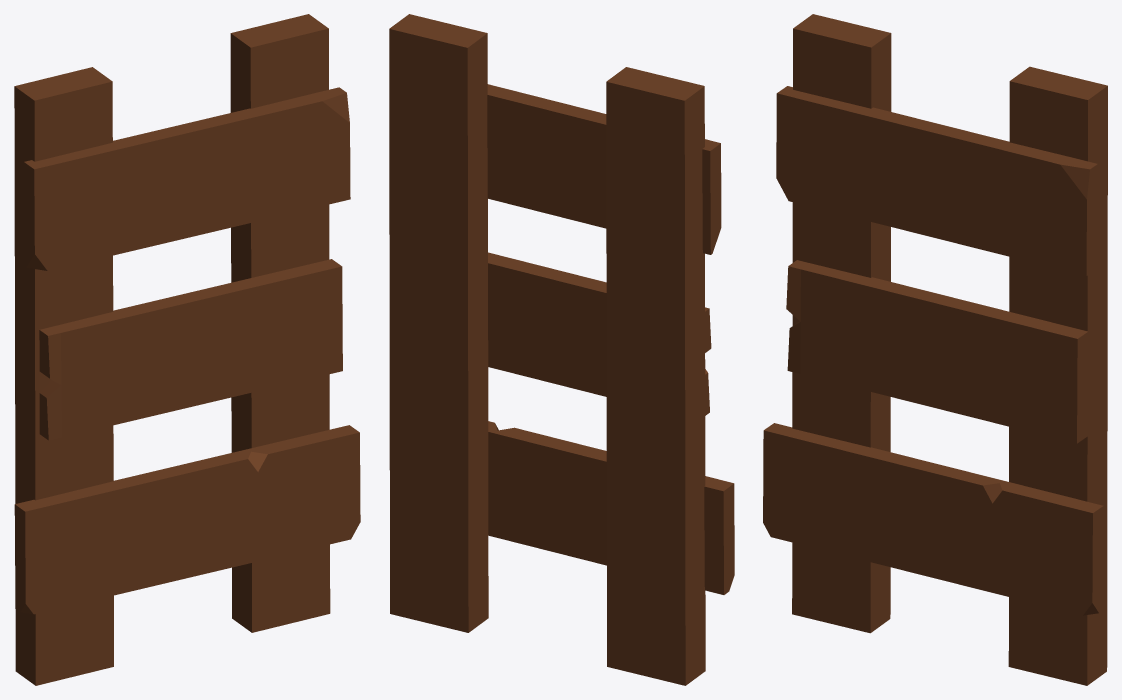
The model's file is Stairs_1.fbx.
3 renders of one model, left to right at view 1: azimuth 30°, elevation 25°; view 2: azimuth 150°, elevation 25°; view 3: azimuth 330°, elevation 25°, orthographic.
Visible parts, largest first — view 1: Stairs_1; view 2: Stairs_1; view 3: Stairs_1.
Part boxes in pixels (x1,y1,x2,y2): Stairs_1: [14, 14, 360, 685]; Stairs_1: [389, 14, 734, 685]; Stairs_1: [763, 14, 1107, 685].
Bounding box in the file's own units: 77.21 × 130 × 13.54.
